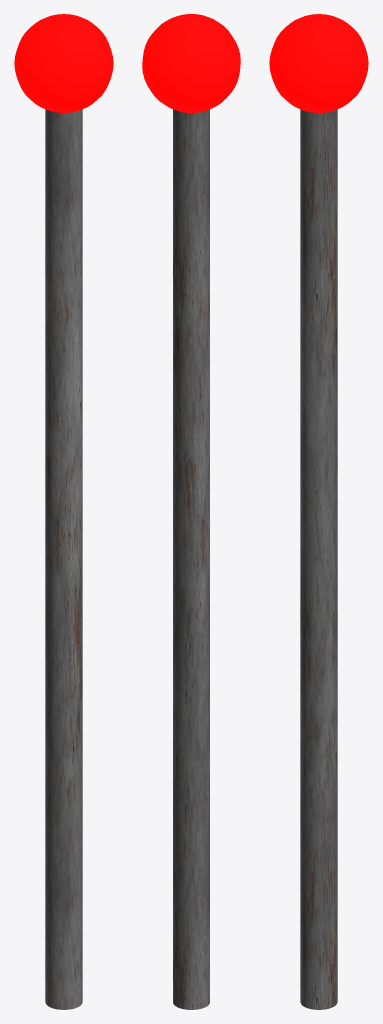
File: Antenna_V2.fbx
3 renders of one model, left to right at view 1: azimuth 90°, elevation 25°; view 2: azimuth 150°, elevation 25°; view 3: azimuth 270°, elevation 25°, orthographic.
Parts seen in each view (by area): view 1: pCylinder2; view 2: pCylinder2; view 3: pCylinder2.
Part boxes in pixels (left/top/right/bottom): pCylinder2: left=14, top=14, right=113, bottom=1009; pCylinder2: left=142, top=14, right=240, bottom=1009; pCylinder2: left=269, top=14, right=368, bottom=1009.
Size of the model in its own units: 0.7822 by 8.56 by 0.7822.
